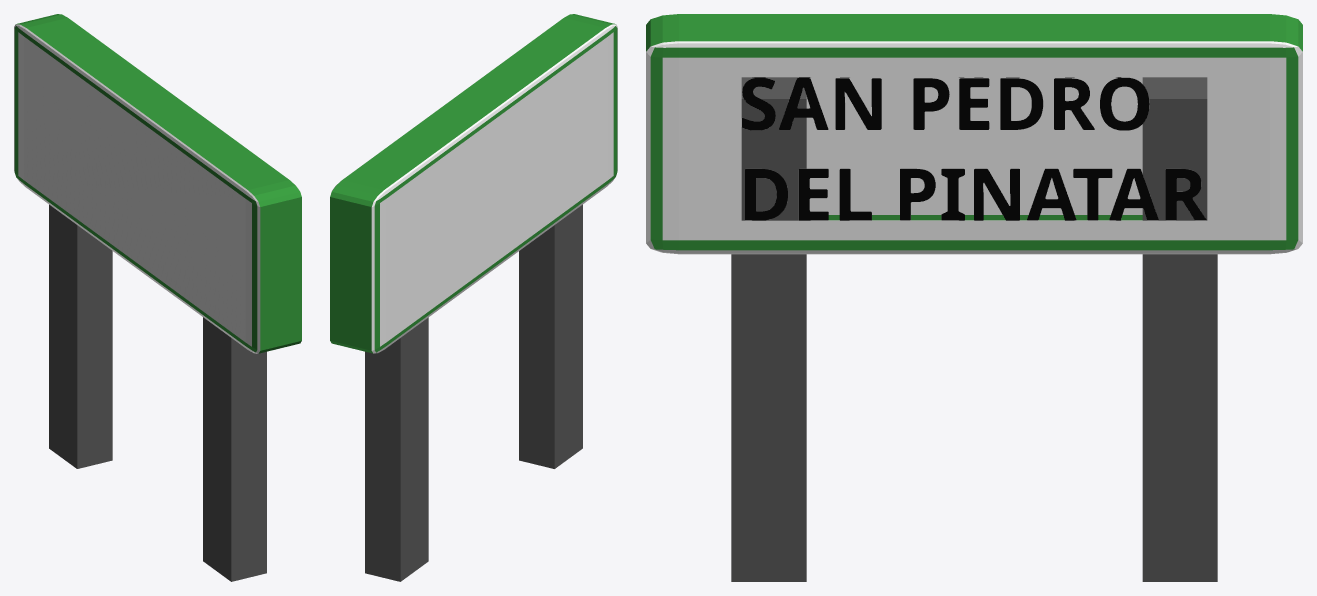
File: CartelSanPedro.fbx
3 views of the same model, side by side, from view 1: azimuth 30°, elevation 25°; view 2: azimuth 150°, elevation 25°; view 3: azimuth 270°, elevation 25° (orthographic). The views are drawn at different scales.
Parts seen in each view (by area): view 1: Cube; view 2: Cube; view 3: Cube.
Part boxes in pixels (x1=…): Cube: x1=14, y1=14, x2=301, y2=581; Cube: x1=330, y1=14, x2=617, y2=581; Cube: x1=646, y1=14, x2=1302, y2=581.
Size of the model in its own units: 26.8 by 225 by 246.
